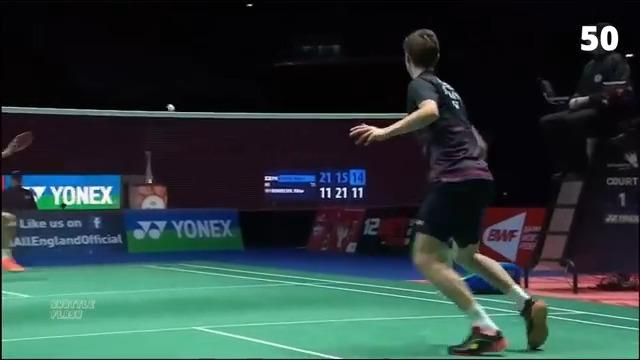Shuttlecock: (166, 102, 176, 112)
